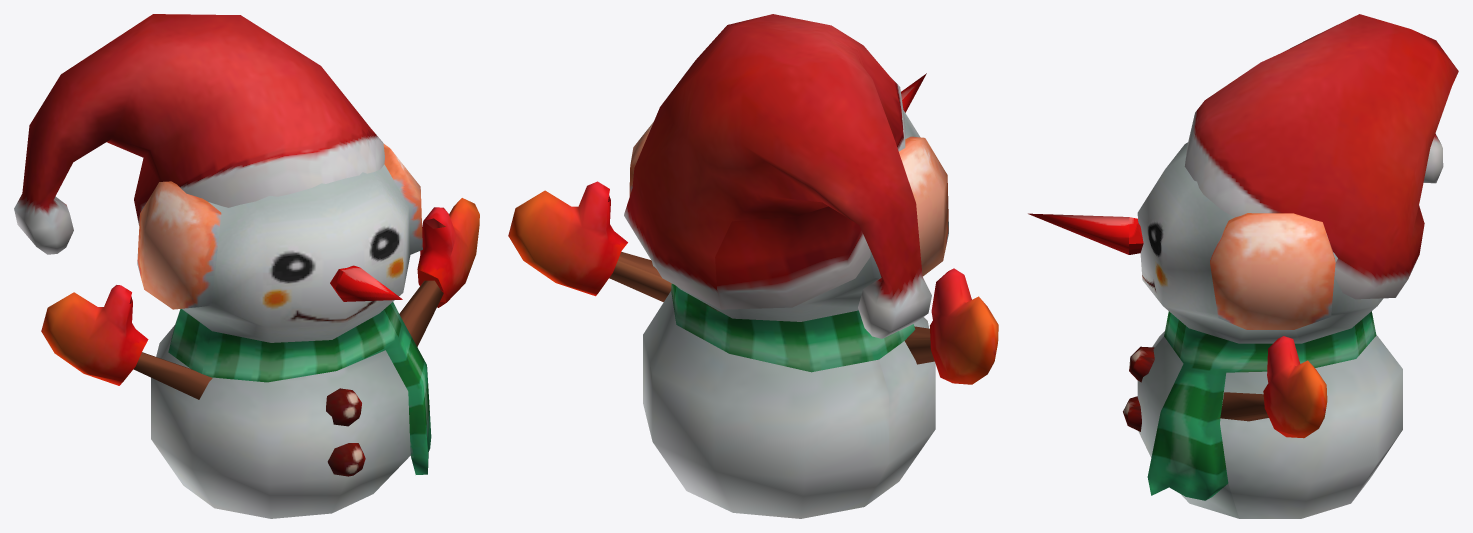
Rendered from furni_0200220.FBX.
3 renders of one model, left to right at view 1: azimuth 30°, elevation 25°; view 2: azimuth 150°, elevation 25°; view 3: azimuth 270°, elevation 25°, orthographic. The views are drawn at different scales.
Parts seen in each view (by area): view 1: furni_0200220; view 2: furni_0200220; view 3: furni_0200220.
Boxes of the visible parts, x1,y1,x2,y2 form: furni_0200220: [14, 14, 479, 518]; furni_0200220: [508, 14, 998, 518]; furni_0200220: [1028, 14, 1458, 518].
Bounding box in the file's own units: 83.01 × 81.5 × 71.76.
1 material, 1 textured.
